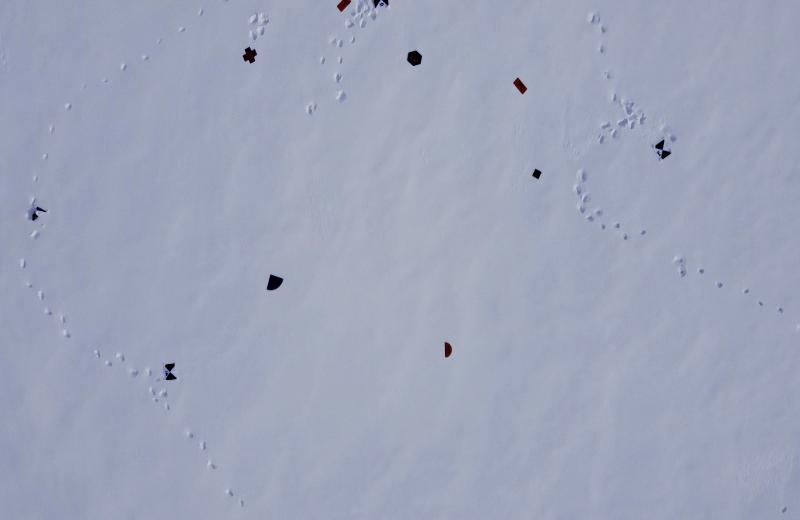Cross: (242, 46, 258, 66)
Hexagon: (406, 50, 423, 68)
Quarter Circle: (265, 272, 286, 292)
Rectangle: (513, 76, 528, 96), (337, 0, 352, 13)
Semi Circle: (442, 339, 454, 359)
Square: (531, 166, 543, 181)
